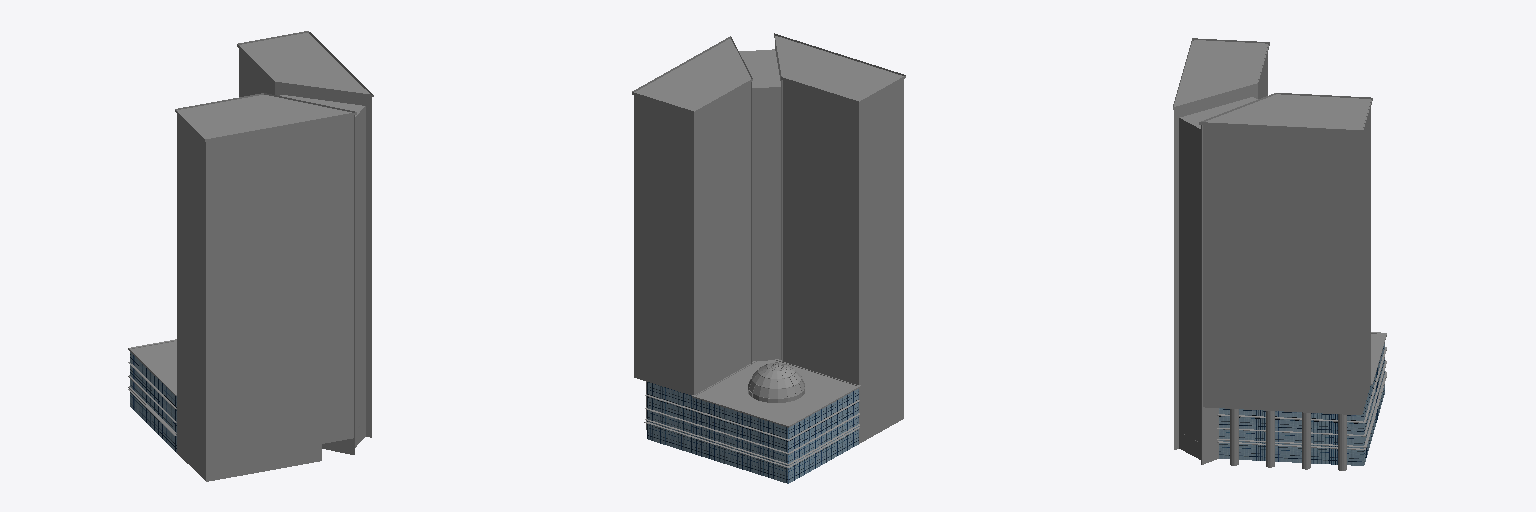
The picture shows the model from 3 angles: view 1: azimuth 30°, elevation 25°; view 2: azimuth 150°, elevation 25°; view 3: azimuth 270°, elevation 25°; orthographic projection.
Visible parts, largest first — view 1: JZ_JX_02; view 2: JZ_JX_02; view 3: JZ_JX_02.
Part boxes in pixels (x1,y1,x2,y2): JZ_JX_02: (128,31,373,481); JZ_JX_02: (632,33,905,483); JZ_JX_02: (1173,38,1386,470).
Size of the model in its own units: 5275 by 9166 by 5197.
7 materials, 1 textured.